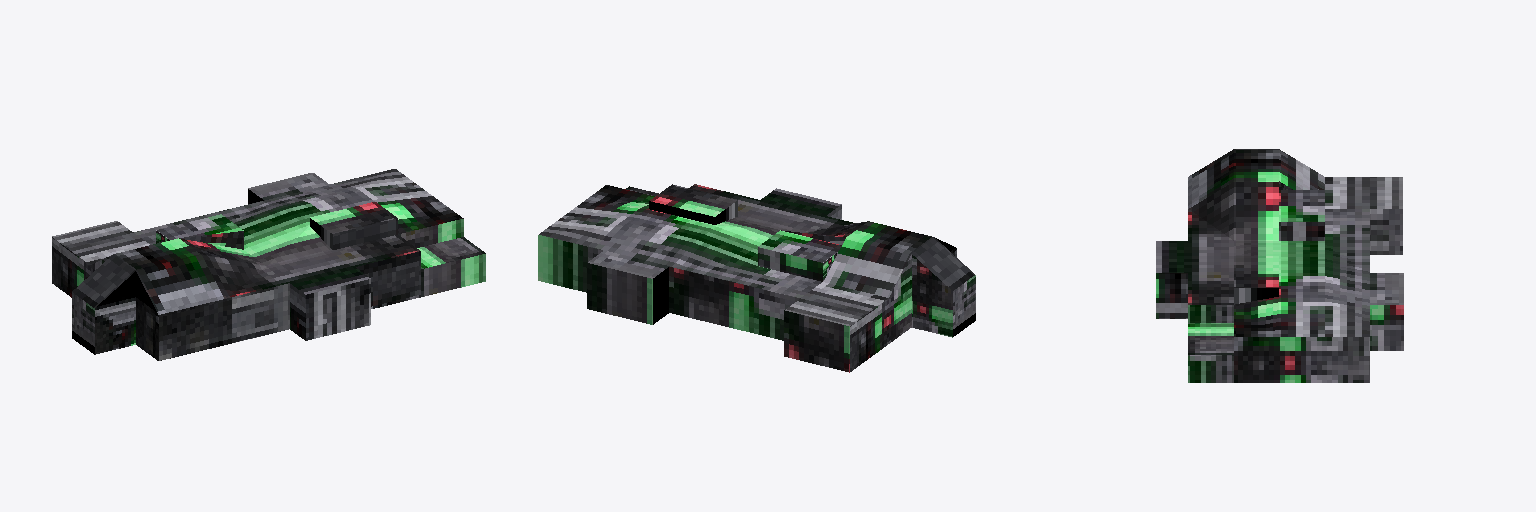
3 views of the same model, side by side, from view 1: azimuth 30°, elevation 25°; view 2: azimuth 150°, elevation 25°; view 3: azimuth 270°, elevation 25° (orthographic).
Visible parts, largest first — view 1: bomba; view 2: bomba; view 3: bomba.
Boxes of the visible parts, <box> form: bomba: <box>52,169,485,360</box>; bomba: <box>538,184,975,372</box>; bomba: <box>1156,149,1403,382</box>.
Size of the model in its own units: 1.18 by 0.2261 by 0.6865.
1 materials, 1 textured.